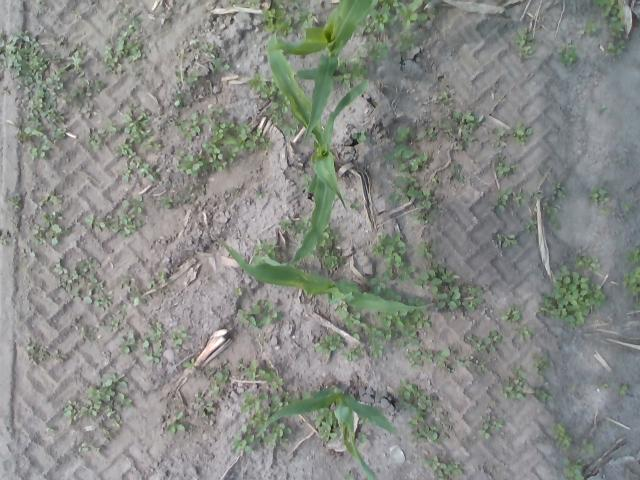Maize: (265, 27, 369, 266), (212, 233, 434, 313), (276, 1, 378, 144), (255, 387, 395, 480)
Weeds: (0, 28, 106, 160), (386, 108, 484, 227), (178, 104, 276, 180), (62, 372, 140, 455), (89, 105, 164, 186), (494, 178, 568, 248), (540, 262, 608, 330), (0, 192, 71, 248), (394, 313, 460, 372), (396, 376, 452, 445), (414, 262, 488, 311), (54, 257, 115, 310), (102, 3, 146, 74), (183, 358, 233, 420), (372, 229, 414, 299), (498, 352, 554, 404), (336, 312, 394, 361), (84, 193, 148, 237), (232, 412, 295, 456), (174, 38, 233, 82), (237, 358, 286, 410), (141, 320, 191, 362), (264, 0, 316, 36), (174, 88, 206, 146), (462, 328, 501, 374), (599, 0, 627, 59), (235, 298, 285, 330), (24, 337, 68, 369), (367, 0, 402, 36), (119, 274, 152, 310), (420, 455, 467, 480), (504, 302, 534, 341), (320, 232, 345, 273), (248, 66, 278, 100), (400, 0, 429, 34), (70, 314, 98, 348), (314, 410, 338, 449), (512, 27, 538, 62), (338, 58, 367, 89), (361, 36, 389, 64), (551, 421, 573, 455), (314, 330, 344, 352), (620, 268, 640, 301), (511, 122, 534, 150), (164, 412, 188, 438), (478, 417, 506, 439), (272, 92, 290, 126), (252, 240, 277, 264), (280, 216, 306, 238), (106, 308, 126, 336), (178, 184, 206, 204), (563, 458, 588, 480), (582, 12, 602, 39), (492, 155, 516, 177), (590, 184, 610, 210), (115, 328, 134, 355), (558, 46, 582, 67), (576, 254, 602, 273), (154, 194, 180, 213), (398, 33, 418, 55), (228, 0, 266, 11), (490, 127, 508, 150), (420, 241, 436, 264), (622, 248, 640, 266), (284, 118, 300, 138), (152, 270, 168, 290), (579, 438, 594, 456), (438, 90, 452, 108), (348, 196, 364, 210), (353, 129, 366, 146), (234, 286, 248, 300), (620, 200, 632, 216), (258, 188, 268, 203), (598, 102, 608, 116), (615, 157, 629, 166), (618, 385, 628, 397), (344, 471, 356, 480), (602, 382, 610, 390)
